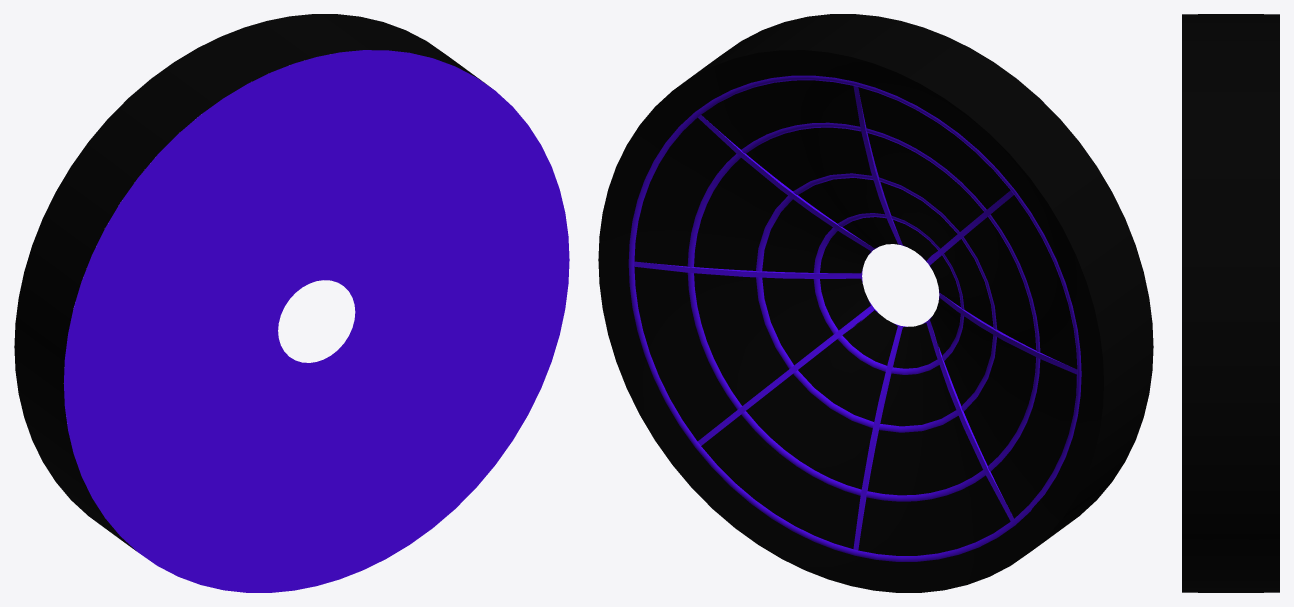
File: blackhole.glb
3 views of the same model, side by side, from view 1: azimuth 30°, elevation 25°; view 2: azimuth 150°, elevation 25°; view 3: azimuth 270°, elevation 25° (orthographic).
Parts seen in each view (by area): view 1: Body1; view 2: Body1; view 3: Body1.
Part boxes in pixels (bbox=[...]): Body1: bbox=[14, 14, 569, 592]; Body1: bbox=[598, 14, 1153, 592]; Body1: bbox=[1182, 14, 1279, 592].
Size of the model in its own units: 0.1005 by 0.1005 by 0.017.
